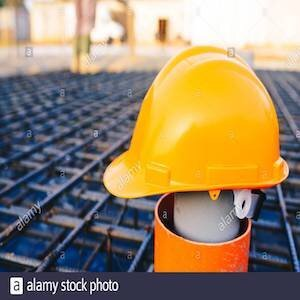safety: (108, 47, 285, 196)
